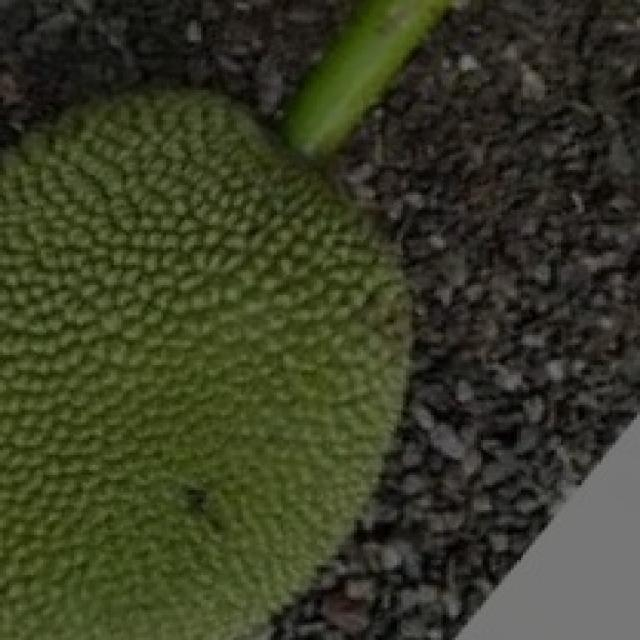Fruit: (0, 32, 409, 450), (240, 0, 640, 325)
